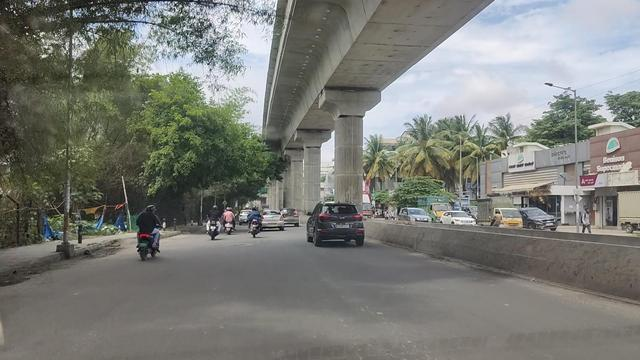LMV: (306, 198, 366, 251), (131, 196, 161, 271), (248, 202, 268, 243), (210, 204, 226, 243)
